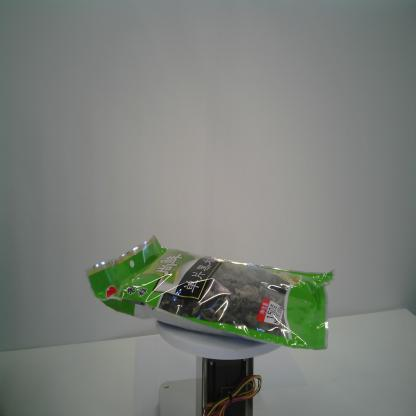Dried Food: (83, 232, 337, 351)
